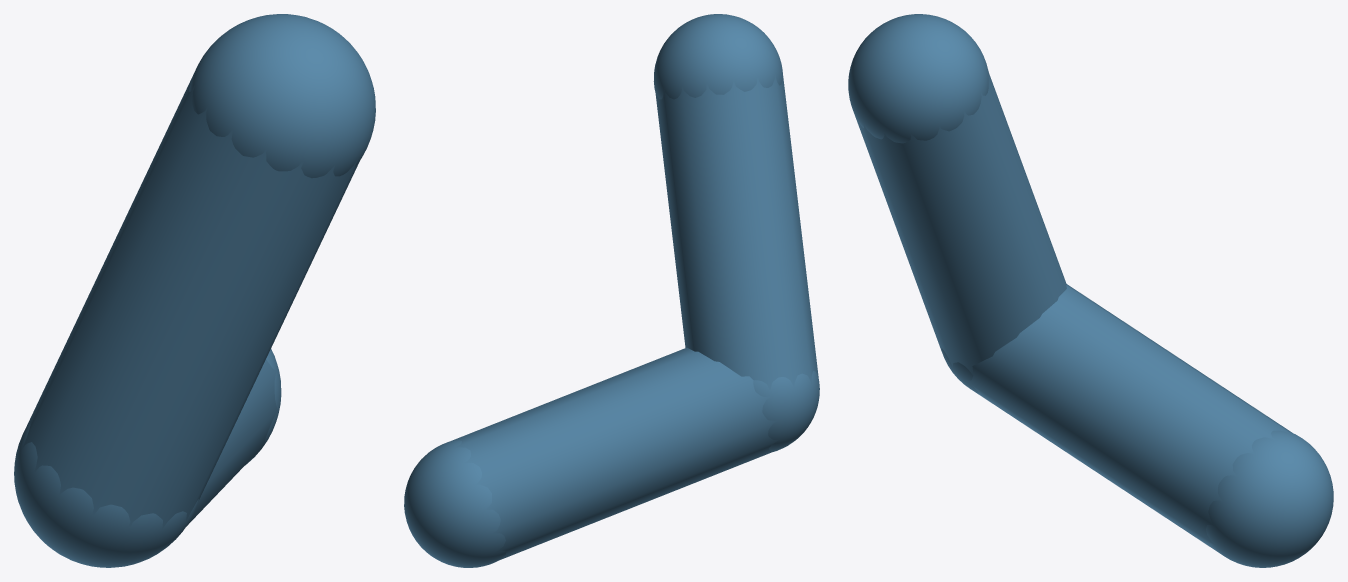
File: 962-sticks-vis_NIH3D.glb
3 views of the same model, side by side, from view 1: azimuth 30°, elevation 25°; view 2: azimuth 150°, elevation 25°; view 3: azimuth 270°, elevation 25° (orthographic). The views are drawn at different scales.
Parts seen in each view (by area): view 1: bonds, atoms; view 2: bonds, atoms; view 3: bonds, atoms.
Boxes of the visible parts, box(x1,y1,x2,y2) form: bonds: box(22, 73, 359, 529); atoms: box(14, 14, 375, 567); bonds: box(448, 73, 819, 562); atoms: box(404, 14, 819, 567); bonds: box(853, 72, 1292, 554); atoms: box(848, 14, 1333, 567).
Size of the model in its own units: 1.01 by 1.53 by 1.37.
